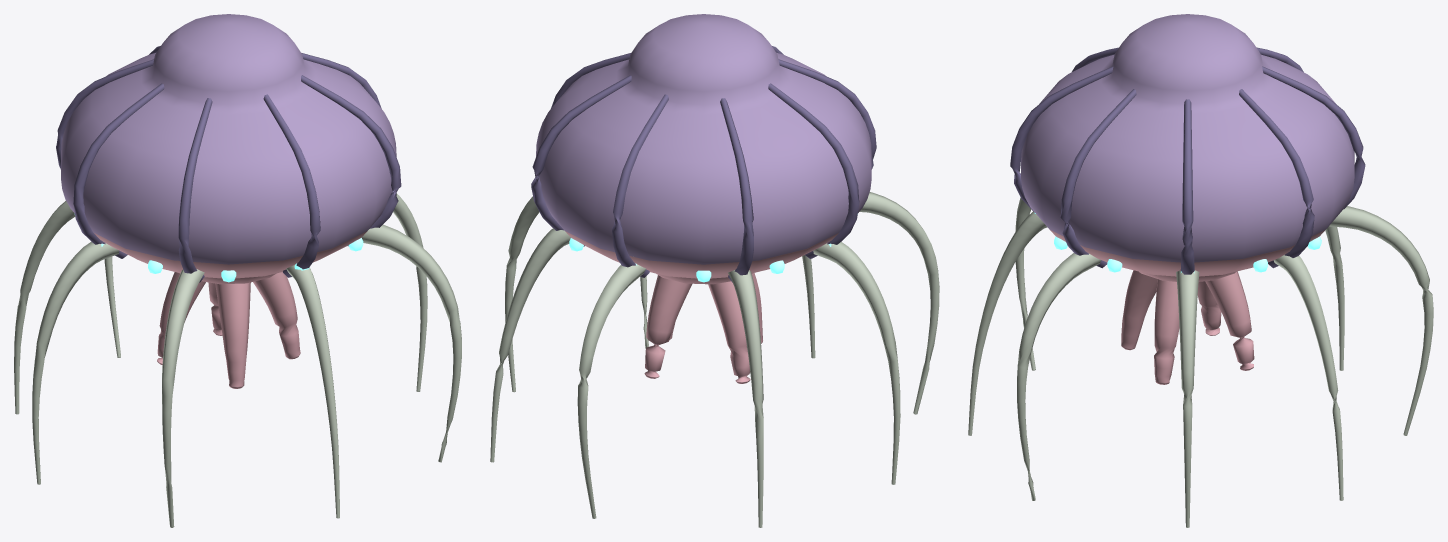
File: xeno-species-and-alien-creatures-tentacled-floater-5bf32248__21106.glb
The picture shows the model from 3 angles, left to right: view 1: azimuth 30°, elevation 25°; view 2: azimuth 150°, elevation 25°; view 3: azimuth 270°, elevation 25°; orthographic projection.
Parts seen in each view (by area): view 1: tentacled-floater; view 2: tentacled-floater; view 3: tentacled-floater.
Boxes of the visible parts, x1,y1,x2,y2 form: tentacled-floater: [14, 14, 461, 527]; tentacled-floater: [490, 14, 939, 527]; tentacled-floater: [968, 14, 1433, 527].
Bounding box in the file's own units: 2.96 × 2.96 × 3.03.
